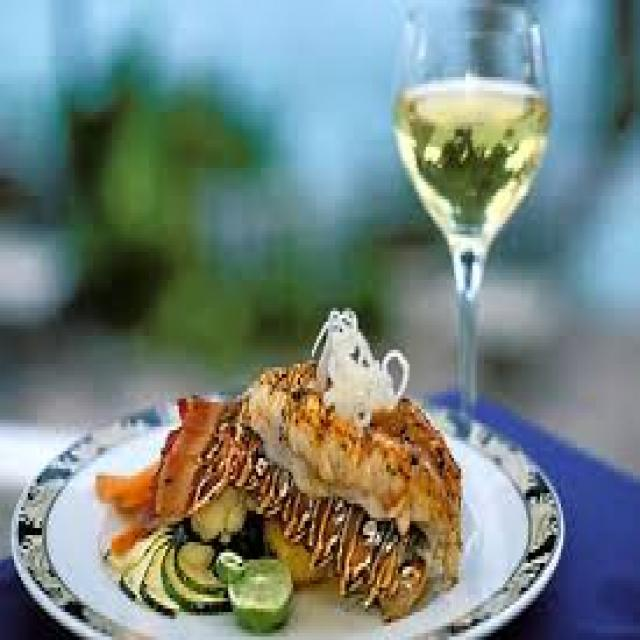Lemon: (228, 556, 295, 630)
